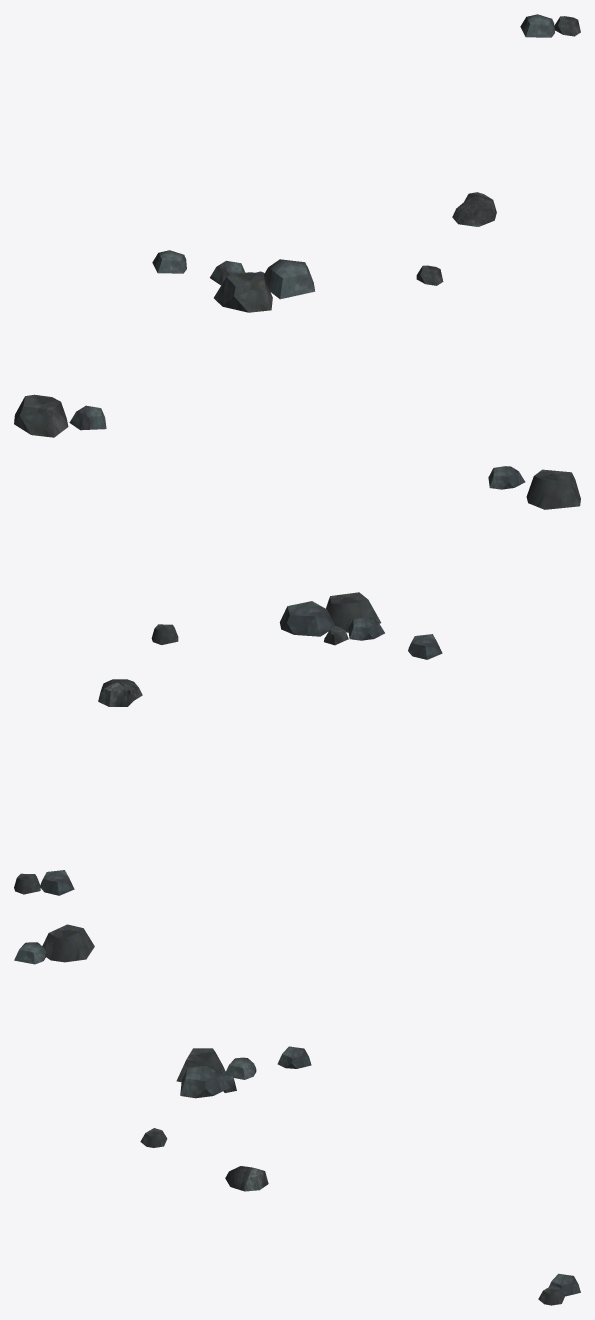
Rendered from object_rubble30.fbx.
3 renders of one model, top to bottom at view 1: azimuth 30°, elevation 25°; view 2: azimuth 210°, elevation 25°; view 3: azimuth 270°, elevation 25°, orthographic. The views are drawn at different scales.
Visible parts, largest first — view 1: Material_#238683587/cliffside; view 2: Material_#238683587/cliffside; view 3: Material_#238683587/cliffside.
Part boxes in pixels (x1,y1,x2,y2): Material_#238683587/cliffside: (14, 14, 580, 437); Material_#238683587/cliffside: (14, 466, 580, 895); Material_#238683587/cliffside: (14, 924, 580, 1305).
Size of the model in its own units: 11.68 by 0.4262 by 7.68.
